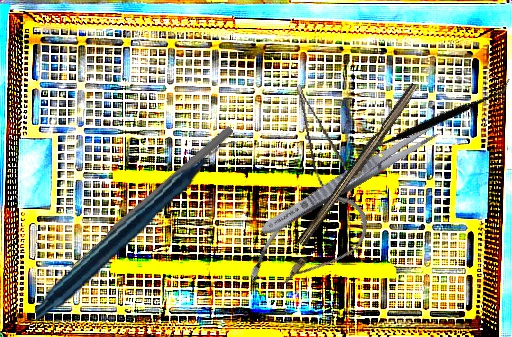Cannula: (237, 176, 379, 316)
Dressing Forceps: (257, 115, 447, 241)
Handpiece: (19, 141, 254, 321)
Micro Scissor: (291, 77, 357, 210)
Pusher: (65, 123, 236, 274)
Scalpel Handle: (296, 80, 422, 251)
Spatula Surgical: (359, 33, 512, 205)
